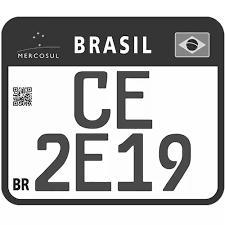placa_mercosul: (6, 19, 219, 201)
